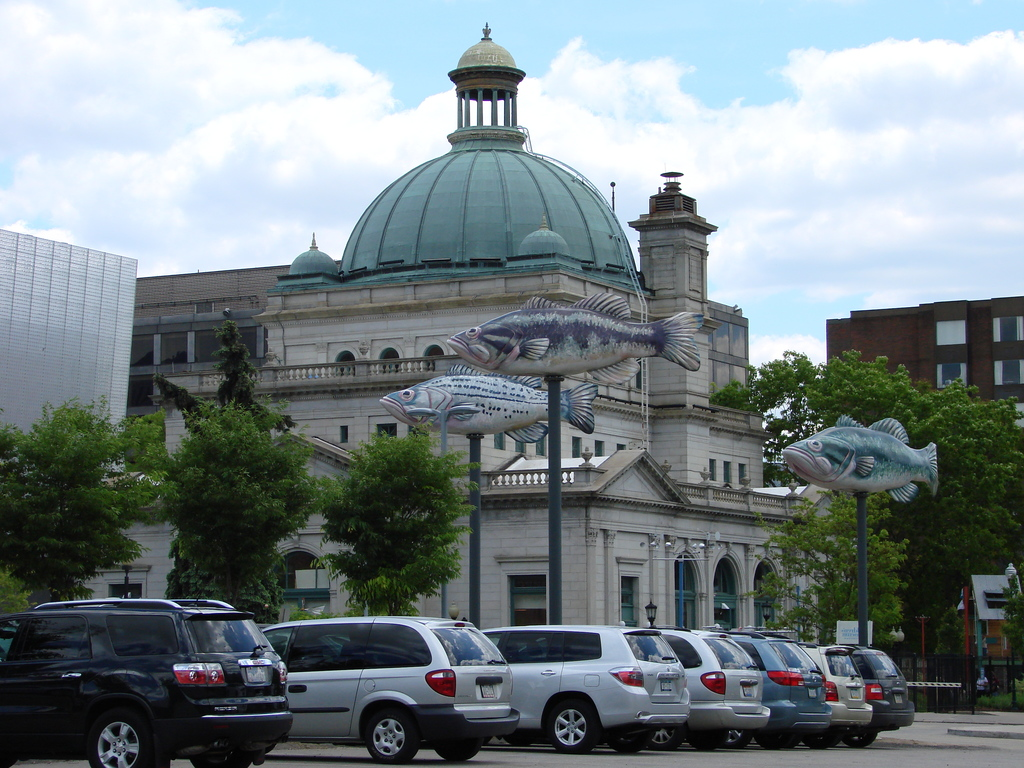Car: (0, 593, 916, 767)
